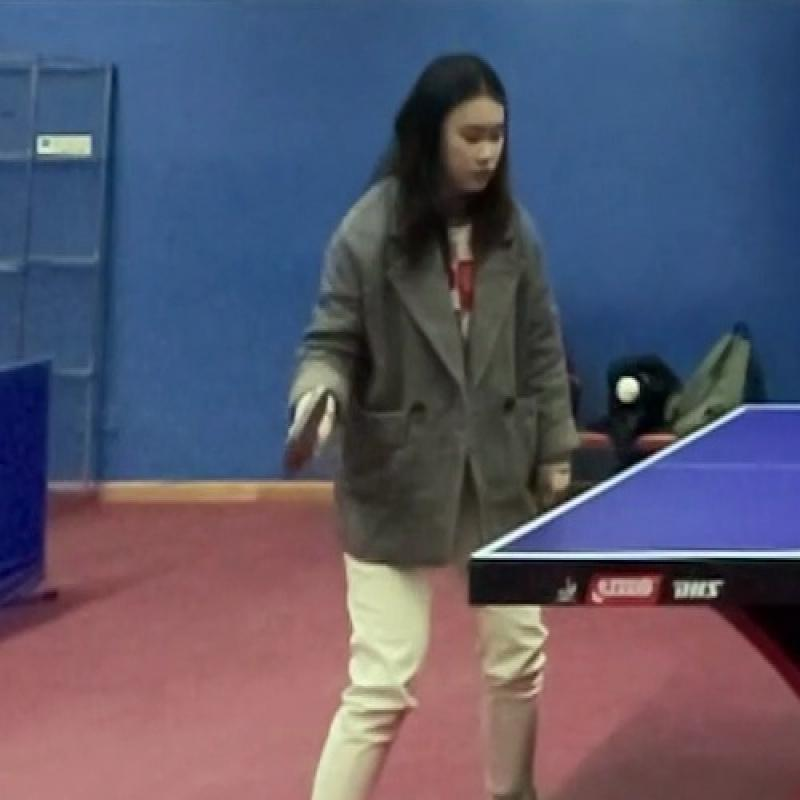bats: (266, 374, 354, 480)
